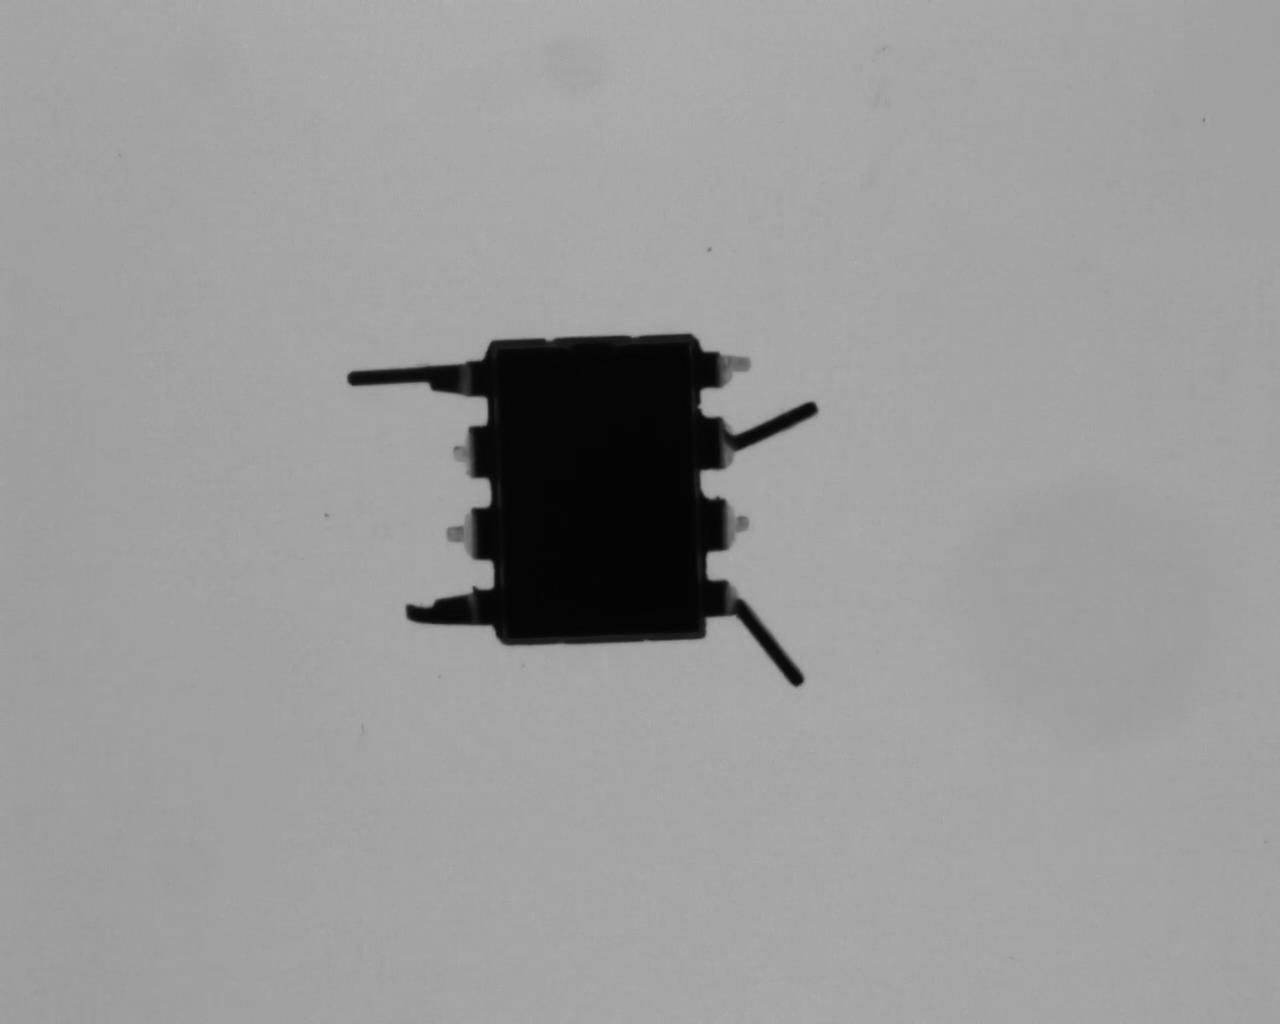Leg: (696, 576, 816, 693), (696, 392, 828, 474), (345, 357, 497, 401), (396, 580, 505, 634), (445, 420, 504, 489), (442, 501, 505, 563), (705, 490, 755, 553), (699, 343, 758, 394)
